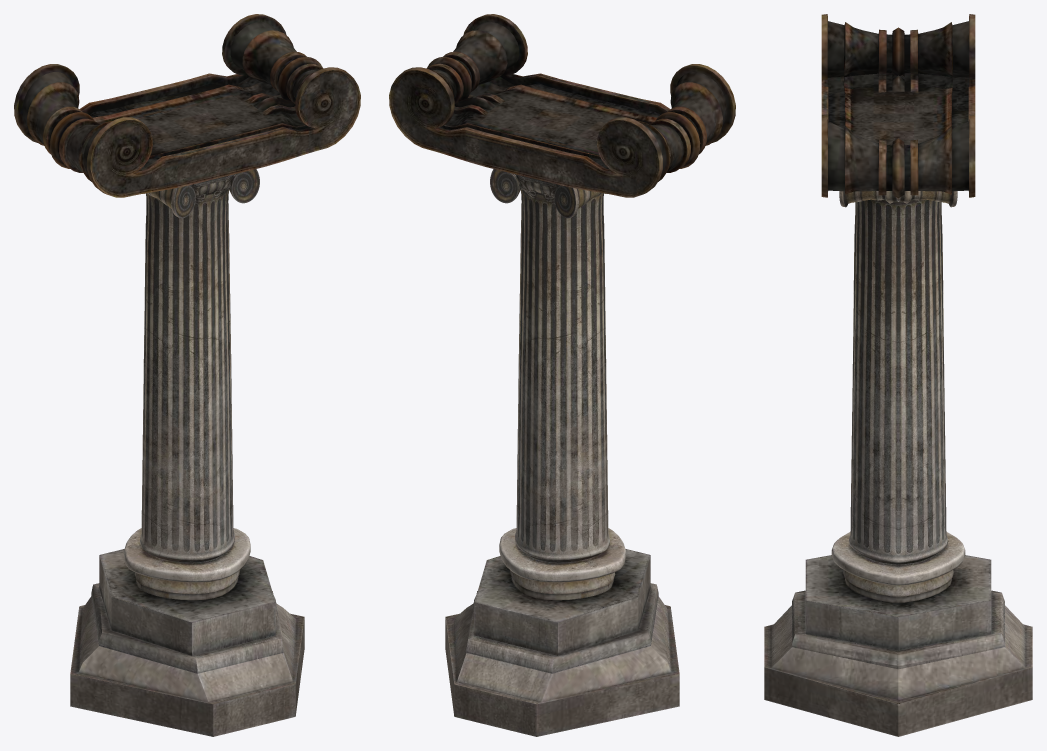
File: sockel.glb
3 views of the same model, side by side, from view 1: azimuth 30°, elevation 25°; view 2: azimuth 150°, elevation 25°; view 3: azimuth 270°, elevation 25° (orthographic).
Parts seen in each view (by area): view 1: Antique Classical Pedestal Stands Type B Stone_1; view 2: Antique Classical Pedestal Stands Type B Stone_1; view 3: Antique Classical Pedestal Stands Type B Stone_1.
Boxes of the visible parts, x1=… form: Antique Classical Pedestal Stands Type B Stone_1: x1=14, y1=14, x2=360, y2=736; Antique Classical Pedestal Stands Type B Stone_1: x1=389, y1=14, x2=735, y2=736; Antique Classical Pedestal Stands Type B Stone_1: x1=764, y1=14, x2=1032, y2=736.
Size of the model in its own units: 0.4518 by 0.9572 by 0.3807.
1 material, 1 textured.
